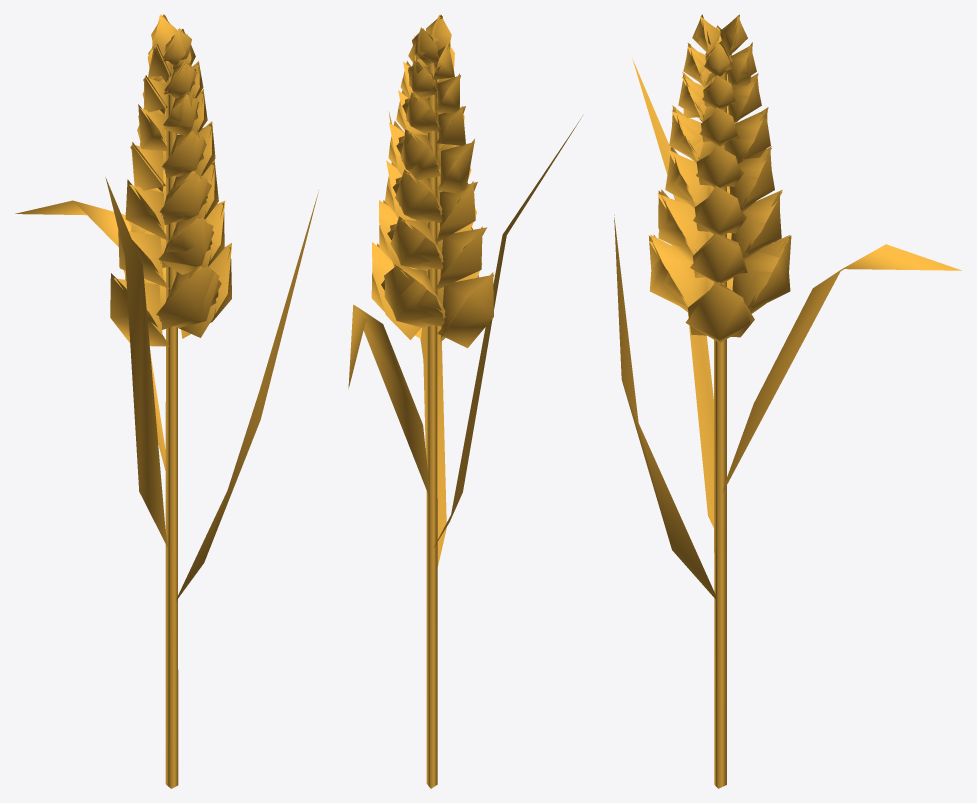
The model's file is Wheat.fbx.
3 views of the same model, side by side, from view 1: azimuth 30°, elevation 25°; view 2: azimuth 150°, elevation 25°; view 3: azimuth 270°, elevation 25° (orthographic).
Visible parts, largest first — view 1: Cylinder.001; view 2: Cylinder.001; view 3: Cylinder.001.
Boxes of the visible parts, box(x1,y1,x2,y2) form: Cylinder.001: box(15, 14, 318, 788); Cylinder.001: box(348, 14, 582, 788); Cylinder.001: box(614, 14, 961, 788).
Bounding box in the file's own units: 27.11 × 96.28 × 39.45.
